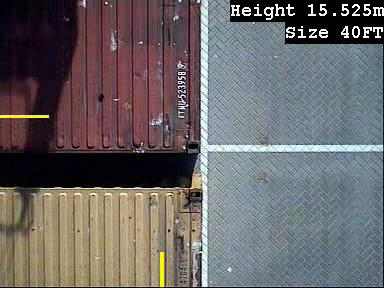groundmarker_2: (191, 21, 263, 117)
